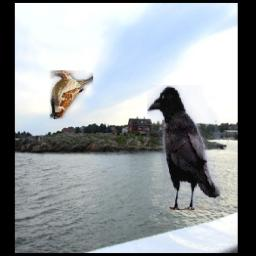Crow: (147, 85, 220, 210)
Sparrow: (50, 70, 93, 119)
